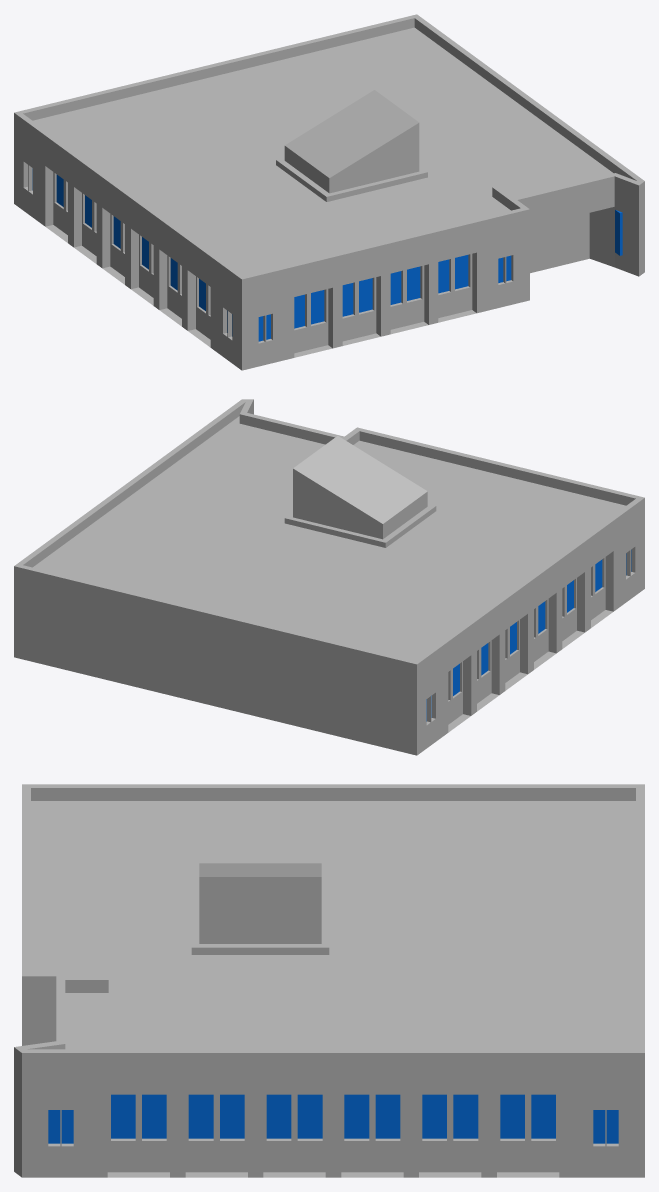
Rendered from 디자인문화관.fbx.
3 renders of one model, top to bottom at view 1: azimuth 30°, elevation 25°; view 2: azimuth 150°, elevation 25°; view 3: azimuth 270°, elevation 25°, orthographic. The views are drawn at different scales.
Parts seen in each view (by area): view 1: Cube, Cube_1, Cube_101, Cube_119; view 2: Cube, Cube_1, Cube_119; view 3: Cube, Cube_105, Cube_1, Cube_104, Cube_100.
Boxes of the visible parts, x1,y1,x2,y2 form: Cube: (14, 14, 644, 370); Cube_1: (276, 90, 427, 201); Cube_101: (294, 255, 468, 328); Cube_119: (32, 168, 232, 336); Cube: (14, 399, 644, 755); Cube_1: (284, 436, 436, 547); Cube_119: (426, 550, 631, 721); Cube: (14, 784, 644, 1177); Cube_105: (111, 1094, 555, 1138); Cube_1: (191, 863, 329, 954); Cube_104: (48, 1110, 73, 1143); Cube_100: (593, 1110, 618, 1143).
Size of the model in its own units: 500 by 168 by 496.
